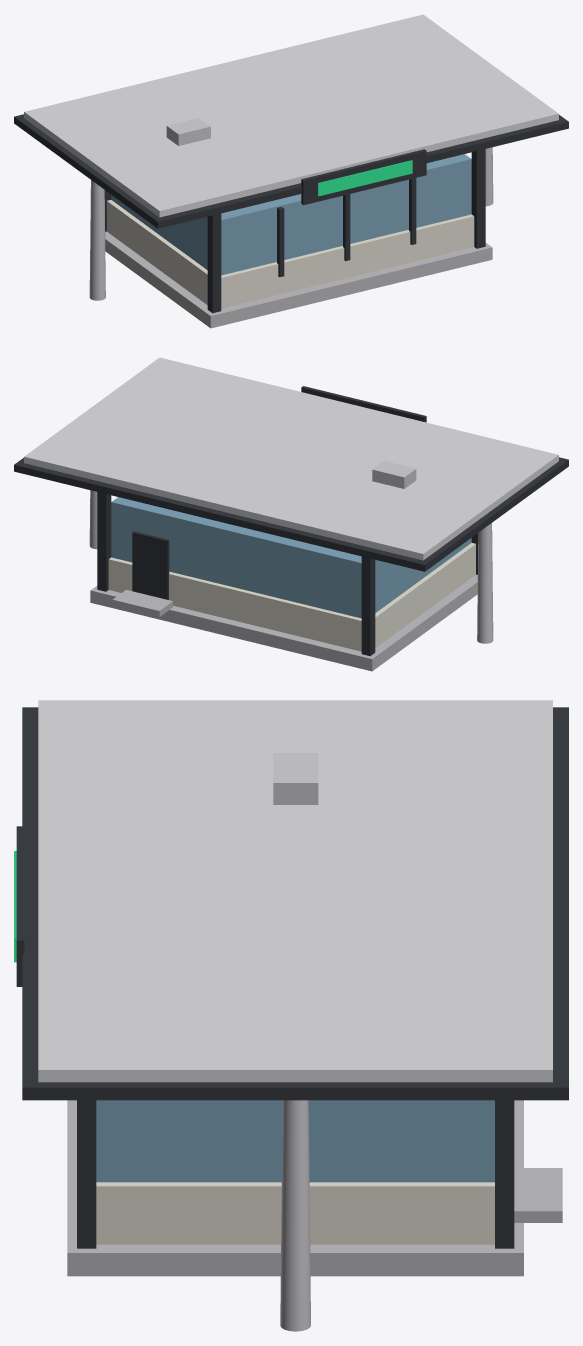
Rendered from portaria.glb.
3 renders of one model, top to bottom at view 1: azimuth 30°, elevation 25°; view 2: azimuth 150°, elevation 25°; view 3: azimuth 270°, elevation 25°, orthographic. The views are drawn at different scales.
Bounding box in the file's own units: 14 × 4.85 × 8.63.
